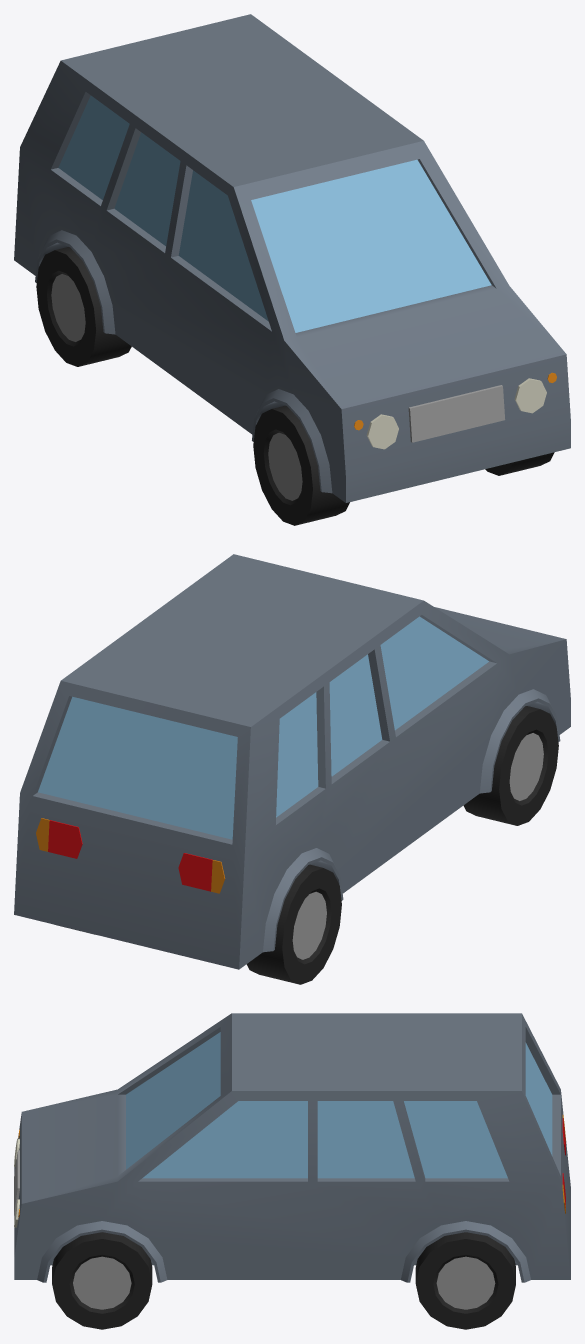
Rendered from car3.glb.
3 views of the same model, one above another, from view 1: azimuth 30°, elevation 25°; view 2: azimuth 150°, elevation 25°; view 3: azimuth 270°, elevation 25° (orthographic). The views are drawn at different scales.
Visible parts, largest first — view 1: car-mpv-silver_Cube.631; view 2: car-mpv-silver_Cube.631; view 3: car-mpv-silver_Cube.631.
Part boxes in pixels (x1,y1,x2,y2): car-mpv-silver_Cube.631: [14, 14, 570, 525]; car-mpv-silver_Cube.631: [14, 554, 570, 984]; car-mpv-silver_Cube.631: [14, 1013, 570, 1329].
Bounding box in the file's own units: 0.854 × 0.9 × 2.
